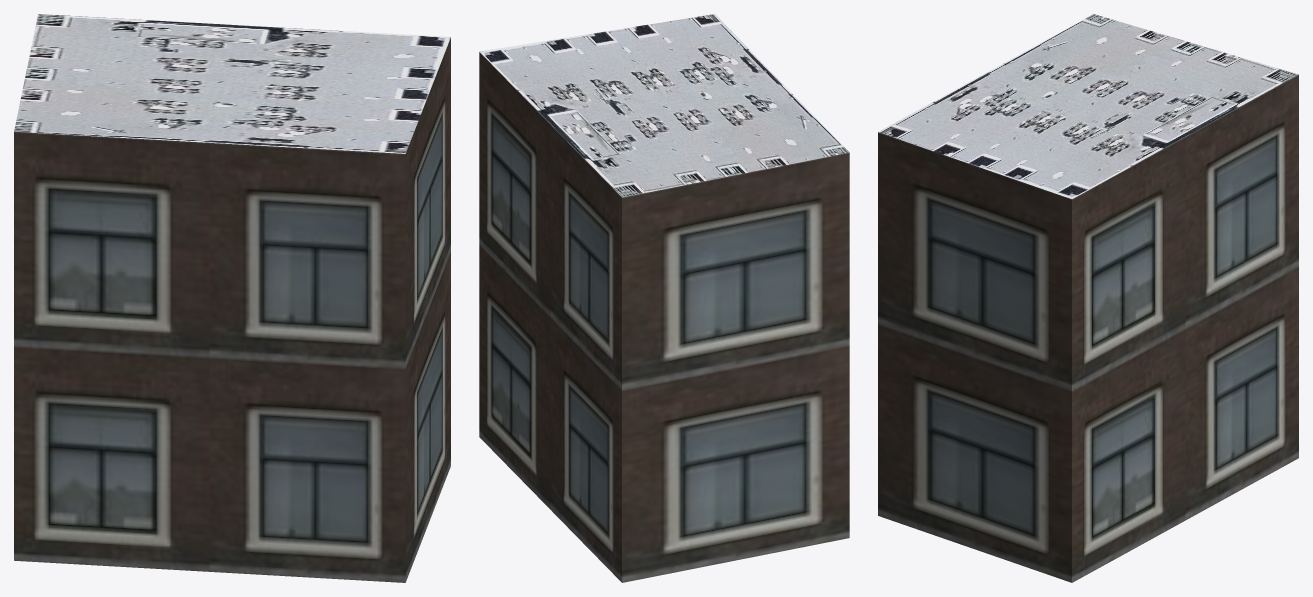
Rendered from ResTex__5136.fbx.
The picture shows the model from 3 angles, left to right: view 1: azimuth 30°, elevation 25°; view 2: azimuth 150°, elevation 25°; view 3: azimuth 270°, elevation 25°; orthographic projection. The views are drawn at different scales.
Parts seen in each view (by area): view 1: CityEngineMaterial_16_m, CityEngineMaterial_15_m; view 2: CityEngineMaterial_16_m, CityEngineMaterial_15_m; view 3: CityEngineMaterial_16_m, CityEngineMaterial_15_m.
Boxes of the visible parts, bbox=[...] form: CityEngineMaterial_16_m: bbox=[14, 37, 450, 582]; CityEngineMaterial_15_m: bbox=[14, 14, 450, 153]; CityEngineMaterial_16_m: bbox=[479, 52, 849, 582]; CityEngineMaterial_15_m: bbox=[479, 14, 849, 197]; CityEngineMaterial_16_m: bbox=[878, 74, 1298, 582]; CityEngineMaterial_15_m: bbox=[878, 14, 1298, 199].
Bounding box in the file's own units: 6.22 × 6 × 5.97.
2 materials, 2 textured.
